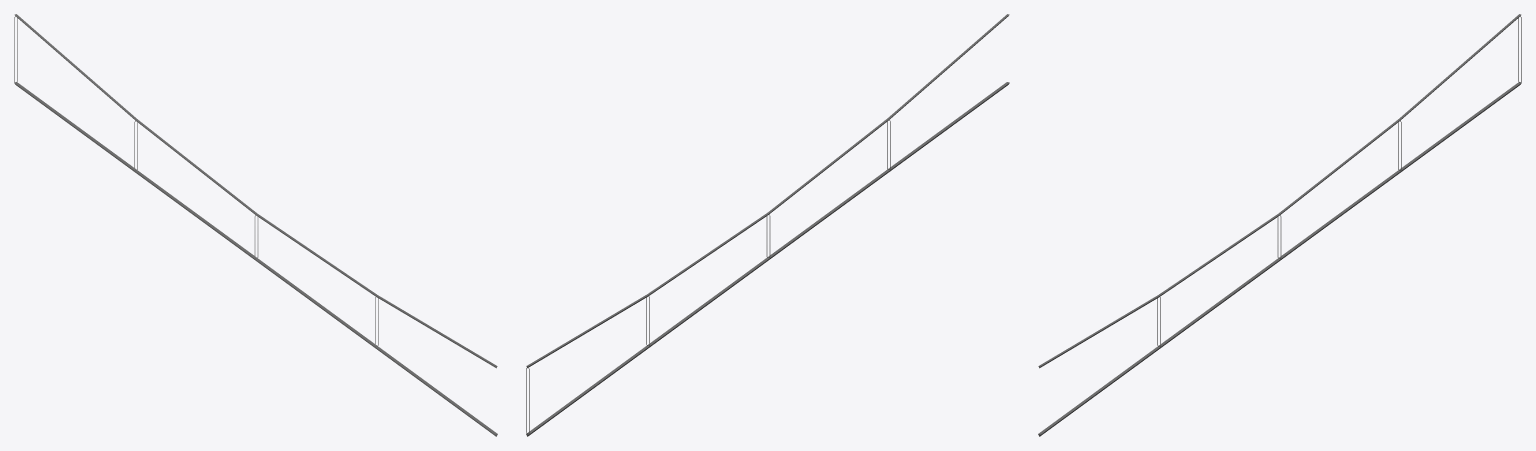
Rendered from SINGLE_KASEN_25.glb.
3 views of the same model, side by side, from view 1: azimuth 30°, elevation 25°; view 2: azimuth 150°, elevation 25°; view 3: azimuth 330°, elevation 25° (orthographic).
Parts seen in each view (by area): view 1: Line3; view 2: Line3; view 3: Line3.
Part boxes in pixels (x1,y1,x2,y2): Line3: (14, 14, 497, 436); Line3: (526, 14, 1009, 436); Line3: (1038, 14, 1521, 436).
Size of the model in its own units: 0.11 by 2.03 by 25.
Materials: 2 (1 with a texture image).
